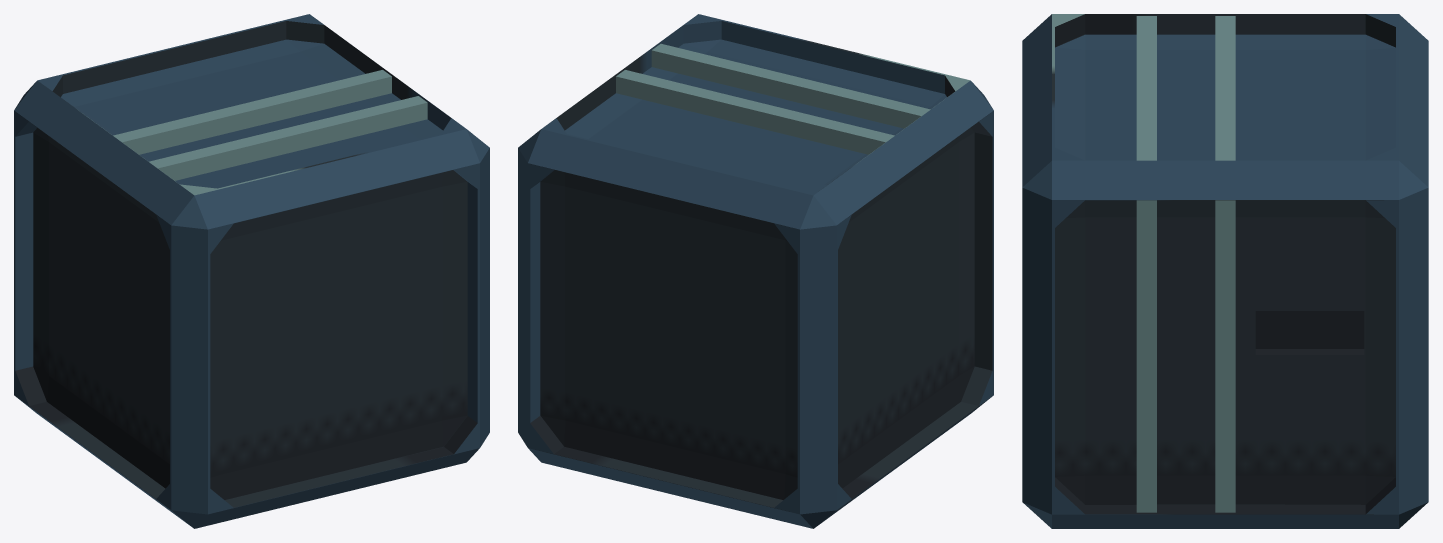
File: crate.fbx
3 renders of one model, left to right at view 1: azimuth 30°, elevation 25°; view 2: azimuth 150°, elevation 25°; view 3: azimuth 270°, elevation 25°, orthographic. The views are drawn at different scales.
Visible parts, largest first — view 1: Crate, Bar_2, Bar; view 2: Crate, Bar_2, Bar; view 3: Crate, Bar_3, Bar_4, Bar, Bar_2.
Boxes of the visible parts, x1,y1,x2,y2 form: Crate: (14, 14, 489, 528); Bar_2: (149, 96, 427, 180); Bar: (113, 70, 391, 154); Crate: (518, 14, 993, 528); Bar_2: (651, 43, 930, 128); Bar: (616, 70, 894, 154); Crate: (1022, 14, 1428, 528); Bar_3: (1215, 200, 1235, 512); Bar_4: (1136, 200, 1156, 512); Bar: (1215, 16, 1235, 160); Bar_2: (1136, 16, 1156, 160).
Size of the model in its own units: 6.8 by 6.8 by 6.8.
Materials: 5 (5 with a texture image).
